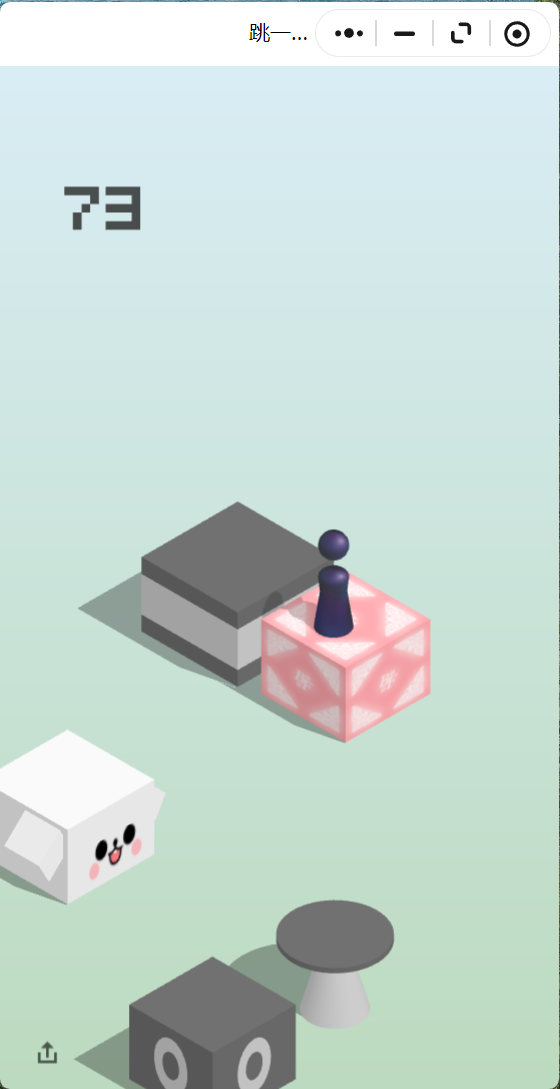piece: (319, 530, 349, 633)
target: (142, 502, 335, 613)
